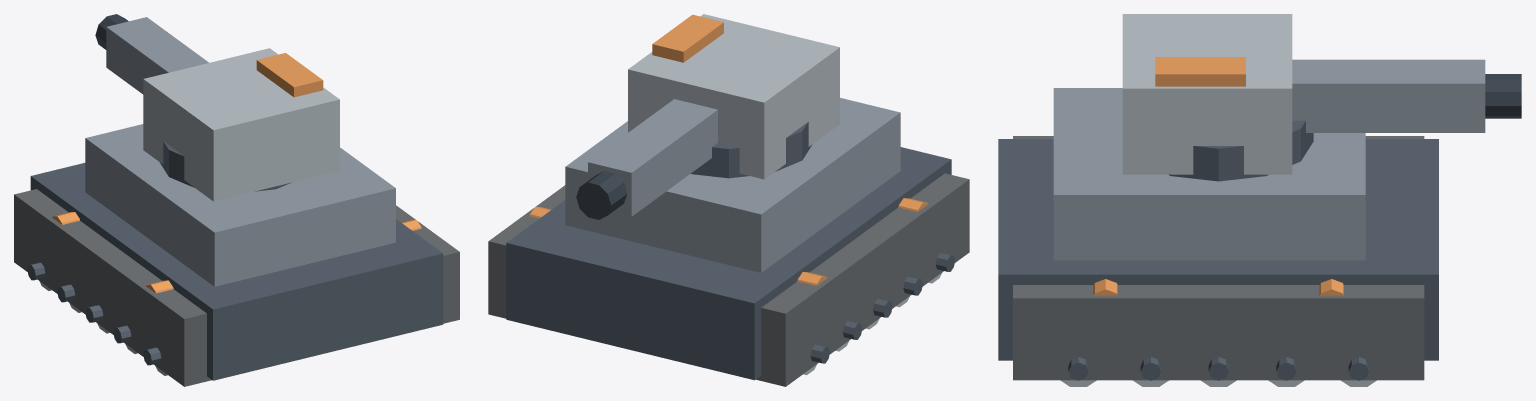
The model's file is tank.glb.
3 renders of one model, left to right at view 1: azimuth 30°, elevation 25°; view 2: azimuth 150°, elevation 25°; view 3: azimuth 270°, elevation 25°, orthographic. The views are drawn at different scales.
Visible parts, largest first — view 1: detail_000, detail_001, detail_029, detail_002, detail_030, detail_015, detail_032, detail_028, detail_031; view 2: detail_000, detail_001, detail_029, detail_002, detail_030, detail_015, detail_032, detail_028, detail_031; view 3: detail_015, detail_001, detail_000, detail_029, detail_030, detail_032, detail_028, detail_031.
Boxes of the visible parts, left/top/right/bottom form: detail_000: left=30, top=163, right=443, bottom=380; detail_001: left=85, top=124, right=395, bottom=286; detail_029: left=143, top=48, right=339, bottom=201; detail_002: left=14, top=189, right=211, bottom=386; detail_030: left=106, top=17, right=208, bottom=94; detail_015: left=396, top=205, right=459, bottom=323; detail_032: left=256, top=53, right=323, bottom=97; detail_028: left=159, top=141, right=291, bottom=191; detail_031: left=95, top=14, right=128, bottom=49; detail_000: left=506, top=147, right=951, bottom=380; detail_001: left=565, top=98, right=900, bottom=272; detail_029: left=628, top=14, right=839, bottom=179; detail_002: left=756, top=173, right=969, bottom=386; detail_030: left=588, top=99, right=717, bottom=216; detail_015: left=488, top=185, right=565, bottom=318; detail_032: left=652, top=14, right=723, bottom=62; detail_028: left=690, top=122, right=812, bottom=178; detail_031: left=576, top=171, right=627, bottom=219; detail_015: left=1013, top=285, right=1424, bottom=380; detail_001: left=1053, top=88, right=1365, bottom=260; detail_000: left=998, top=139, right=1438, bottom=360; detail_029: left=1122, top=14, right=1292, bottom=174; detail_030: left=1292, top=59, right=1485, bottom=132; detail_032: left=1155, top=57, right=1245, bottom=86; detail_028: left=1168, top=120, right=1313, bottom=181; detail_031: left=1485, top=74, right=1521, bottom=118.
Size of the model in its own units: 1.82 by 1.31 by 2.32.
